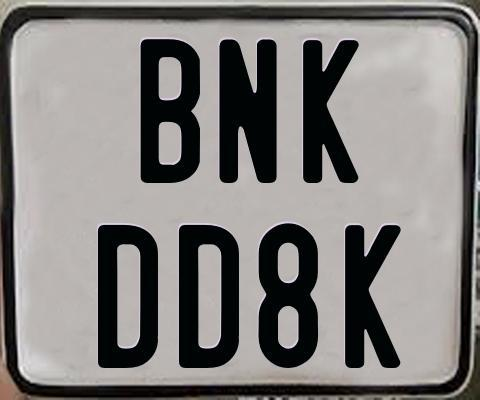8: (257, 221, 320, 371)
B: (138, 38, 202, 183)
D: (178, 223, 241, 370), (95, 225, 157, 369)
K: (302, 38, 361, 187), (342, 225, 401, 368)
N: (219, 39, 278, 189)
